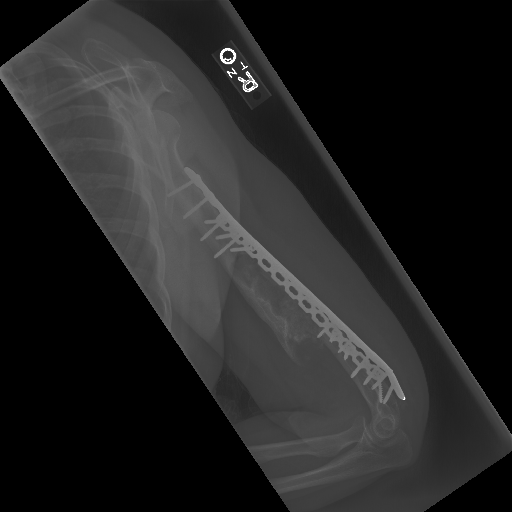implant: (167, 167, 406, 404)
